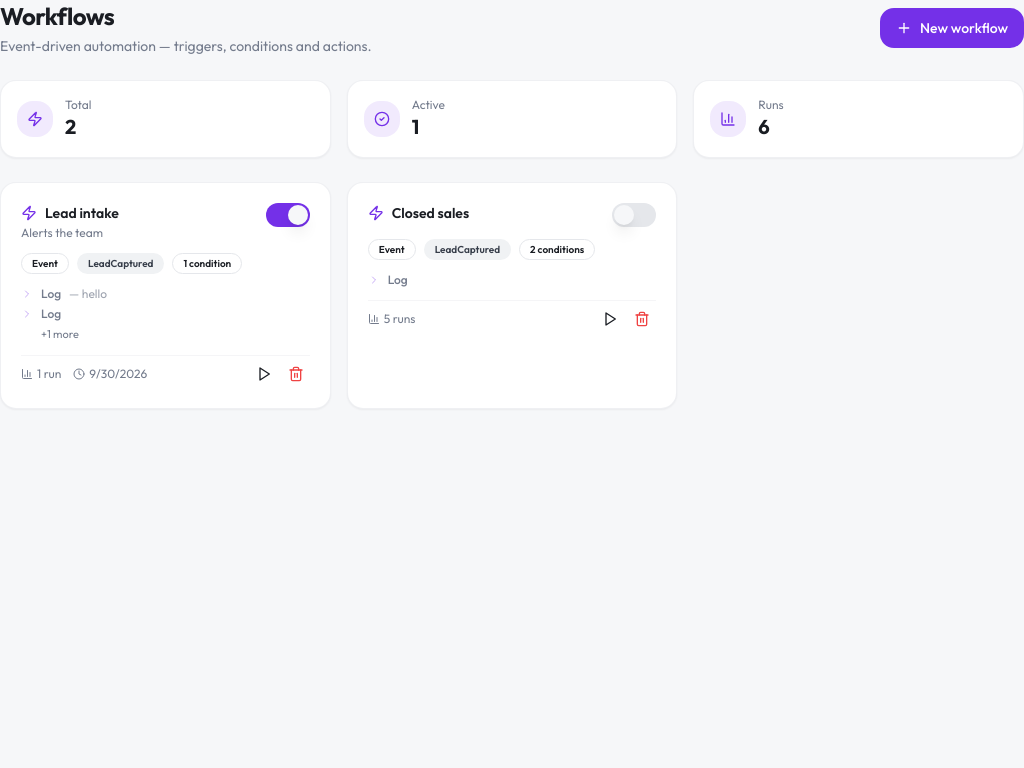
Test case: Workflows in English › shows the empty run history
Click the button named "View runs" next to "9/30/2026" at (264, 374), box top-left (250, 360), bottom-right (278, 388)
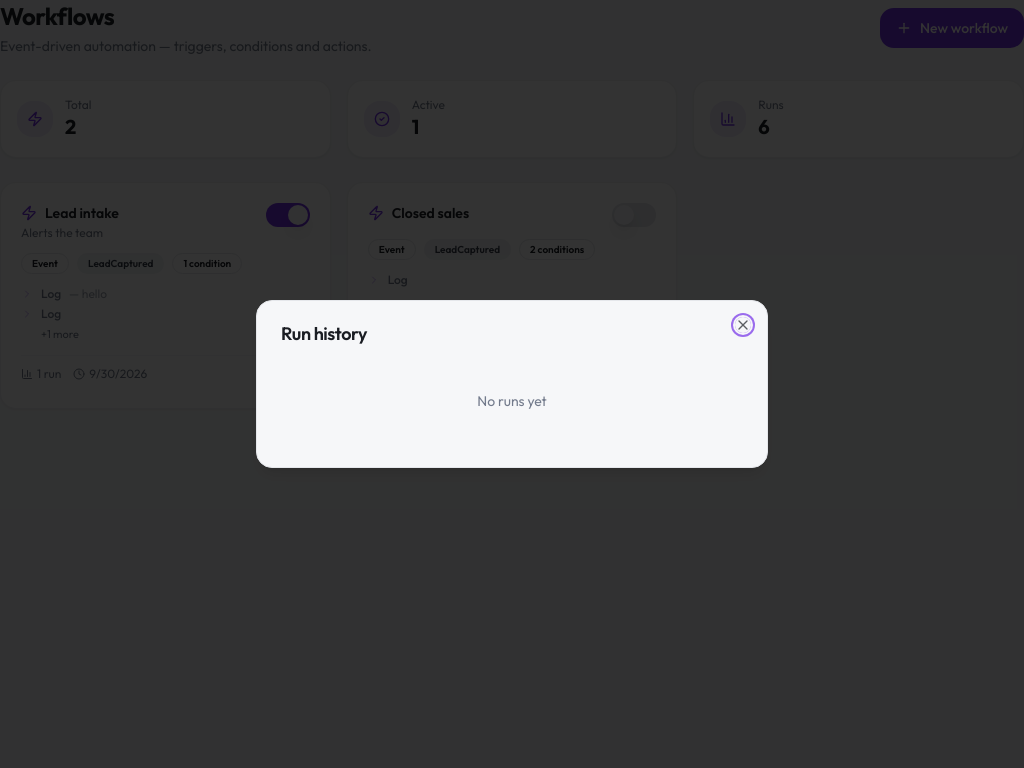
Result: the text "No runs yet" is shown at top-left (477, 392), bottom-right (547, 410)
